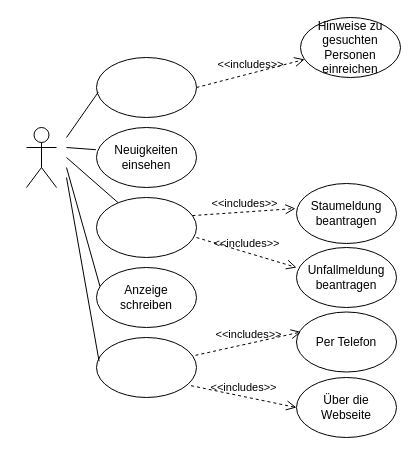
The diagram is 418 pixels wide and 455 high, and some of its shapes have lost their labels. The shapes that lost their labels are listed below. From the top down, each one's centre as x and y in pixels, then its label:
the point at 146,87: Übersicht über gesuchte Personen
the point at 41,157: Benutzer
the point at 146,227: Übersicht aller Staus und Unfälle
the point at 146,367: Notruf abgeben
